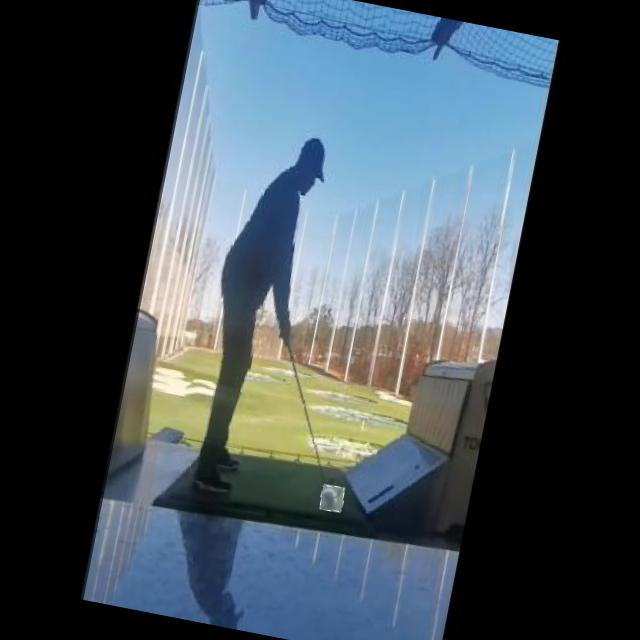club head: (318, 484, 346, 514)
